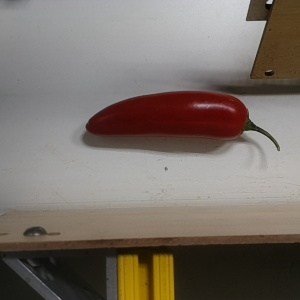Cut Point: (226, 96, 257, 139)
